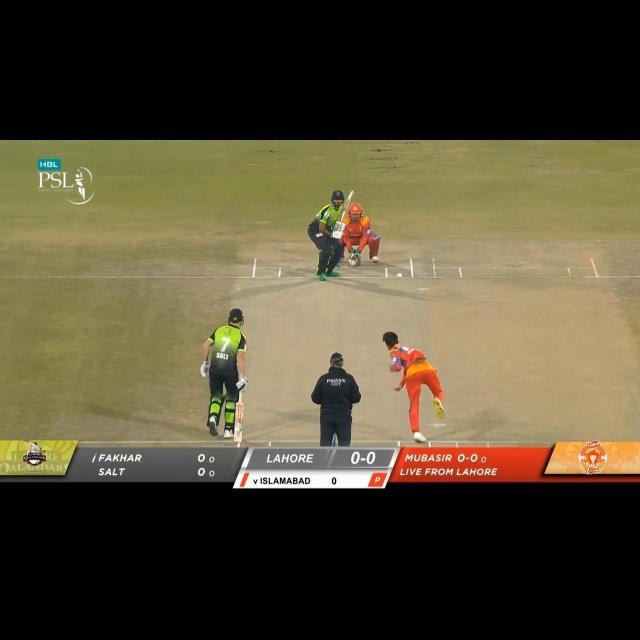bat: (232, 403, 247, 444), (338, 188, 354, 224)
toe: (230, 433, 246, 445), (346, 188, 357, 200)
